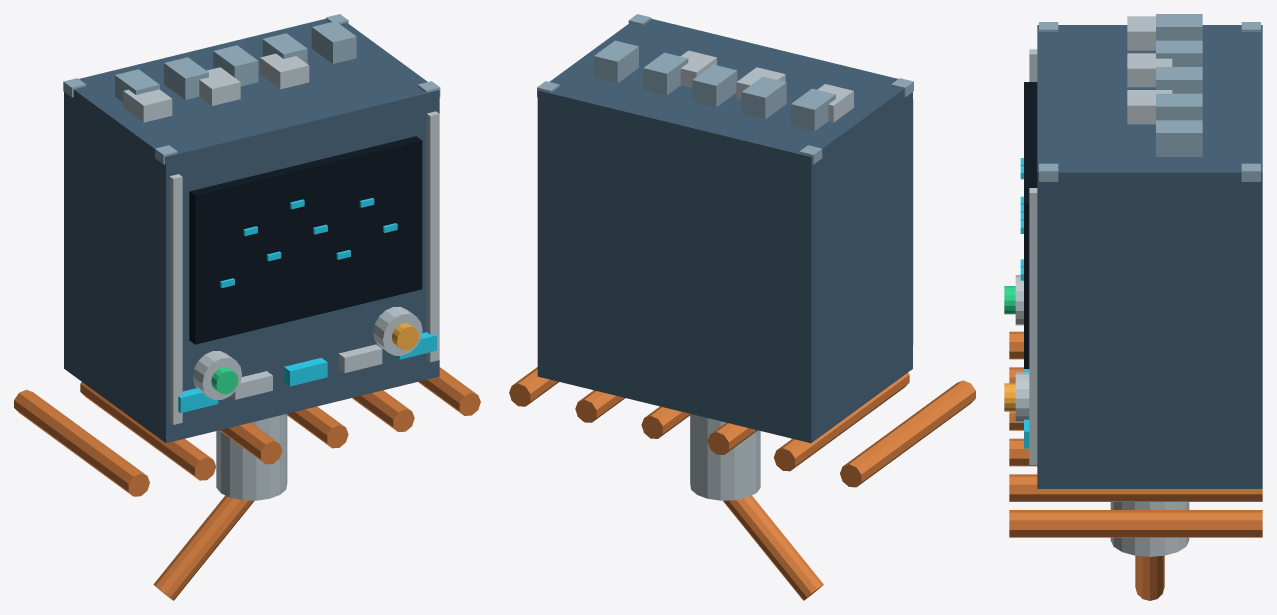
File: 27_L76_PrecisionCurrentTransducer.fbx
3 renders of one model, left to right at view 1: azimuth 30°, elevation 25°; view 2: azimuth 150°, elevation 25°; view 3: azimuth 270°, elevation 25°, orthographic. The views are drawn at different scales.
Parts seen in each view (by area): view 1: PrecisionCurrentTransducer; view 2: PrecisionCurrentTransducer; view 3: PrecisionCurrentTransducer.
Boxes of the visible parts, box(x1,y1,x2,y2) form: PrecisionCurrentTransducer: box(14, 14, 480, 600); PrecisionCurrentTransducer: box(509, 14, 975, 600); PrecisionCurrentTransducer: box(1004, 14, 1262, 600).
Bounding box in the file's own units: 79.85 × 112 × 45.85.
